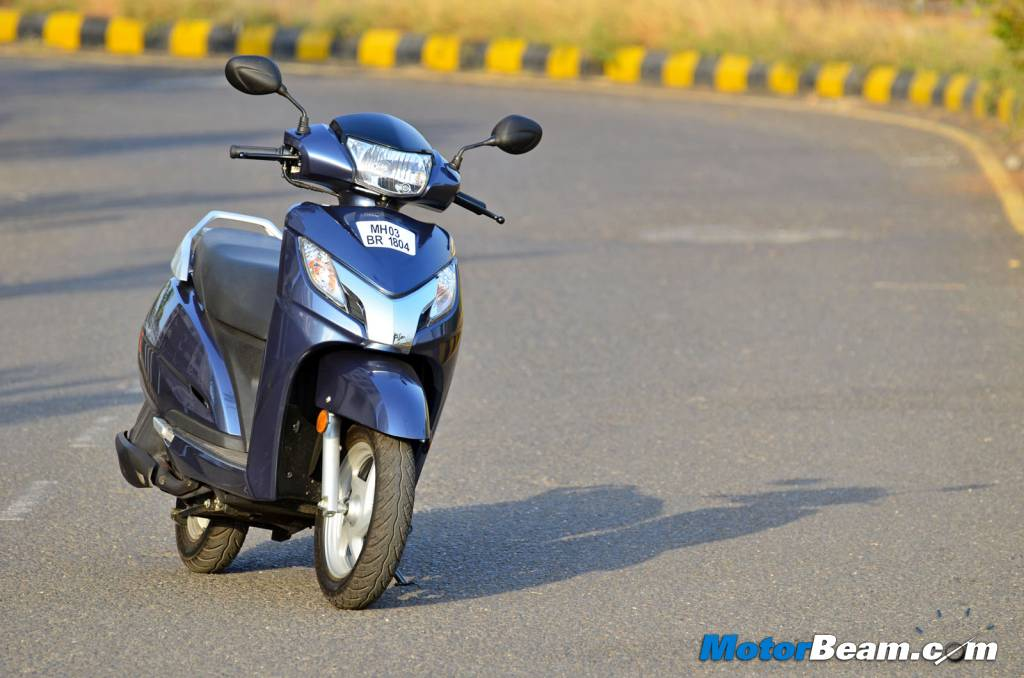number_plate: (357, 216, 423, 260)
